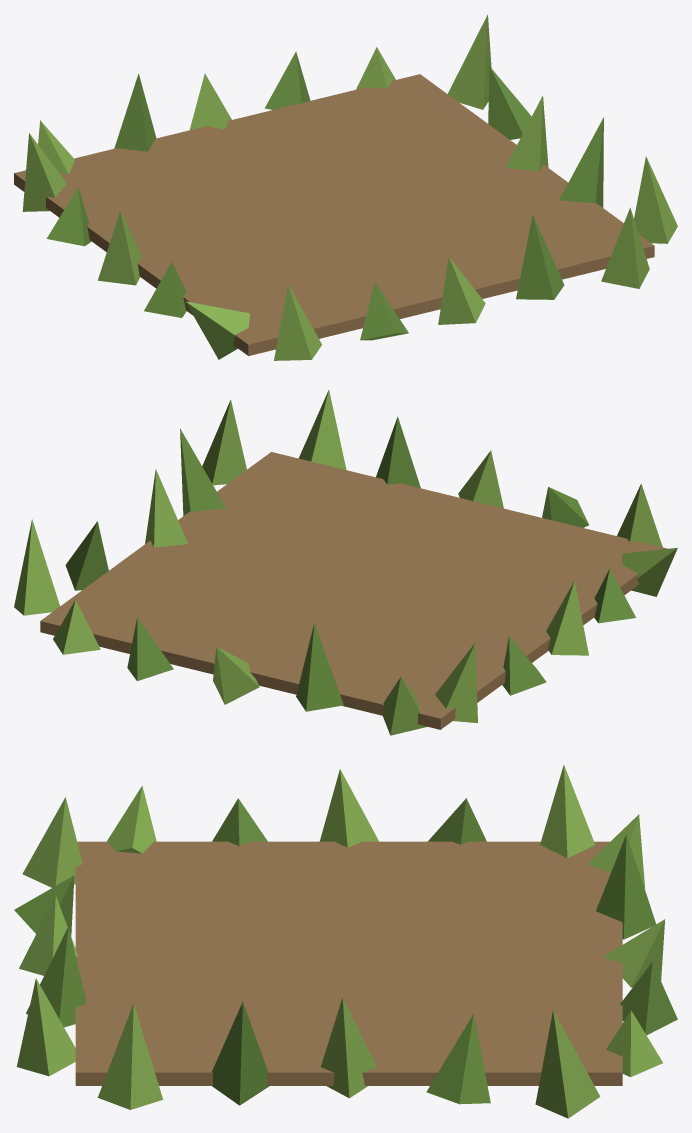
File: road_dirt_pillar.glb
3 views of the same model, one above another, from view 1: azimuth 30°, elevation 25°; view 2: azimuth 150°, elevation 25°; view 3: azimuth 270°, elevation 25° (orthographic). The views are drawn at different scales.
Visible parts, largest first — view 1: street_dirt_pillar; view 2: street_dirt_pillar; view 3: street_dirt_pillar.
Boxes of the visible parts, left/top/right/bottom form: street_dirt_pillar: left=14, top=14, right=677, bottom=360; street_dirt_pillar: left=14, top=390, right=677, bottom=735; street_dirt_pillar: left=14, top=765, right=677, bottom=1118.
Bounding box in the file's own units: 1.82 × 0.3618 × 1.82.
